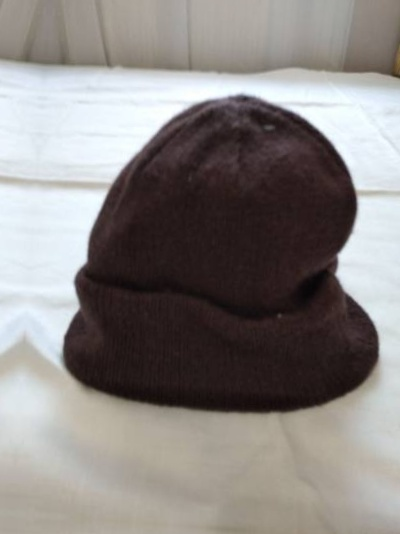Hat: (51, 86, 398, 434), (0, 57, 11, 405)
